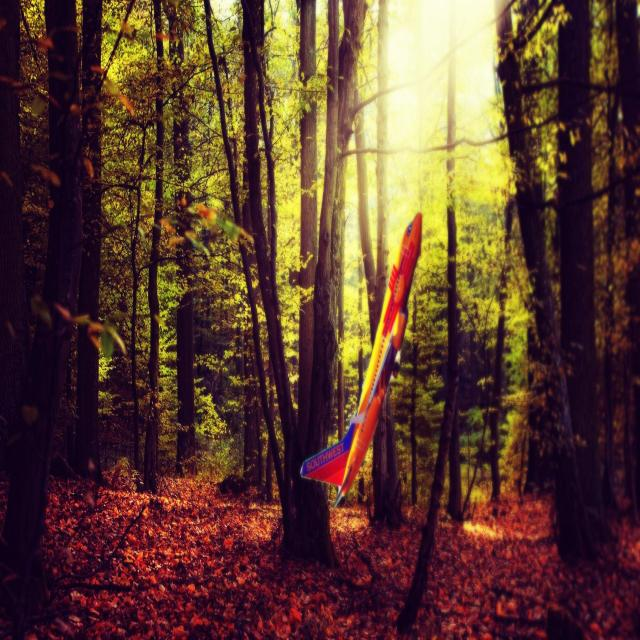airplane: (300, 211, 422, 508)
